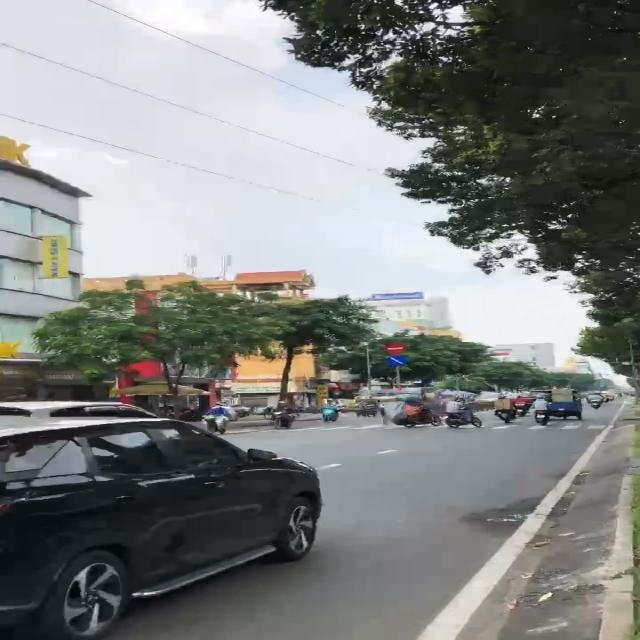Bien bao cam di nguoc chieu: (383, 342, 408, 355)
Bien bao huong phai di vong chuong ngai vat: (383, 354, 409, 368)
